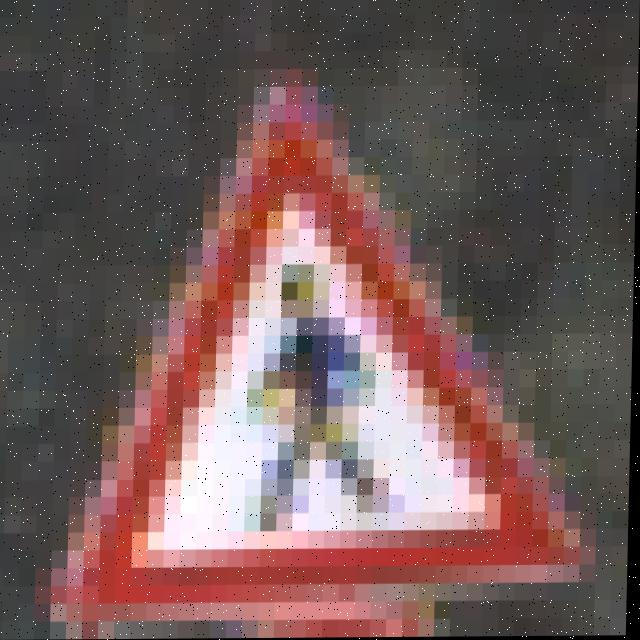crosswalk: (86, 76, 552, 595)
